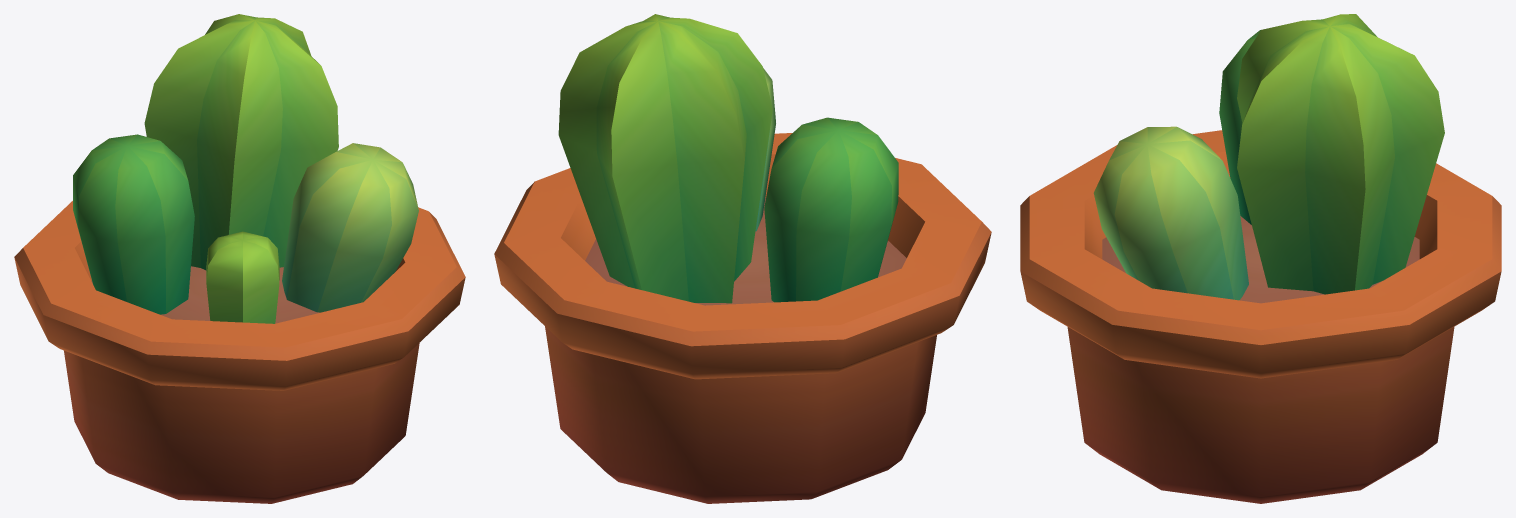
File: kay-cacto.gltf
The picture shows the model from 3 angles, left to right: view 1: azimuth 30°, elevation 25°; view 2: azimuth 150°, elevation 25°; view 3: azimuth 270°, elevation 25°; orthographic projection. The views are drawn at different scales.
Visible parts, largest first — view 1: cactus_medium_A; view 2: cactus_medium_A; view 3: cactus_medium_A.
Boxes of the visible parts, bbox=[...] form: cactus_medium_A: bbox=[14, 14, 465, 503]; cactus_medium_A: bbox=[494, 14, 991, 503]; cactus_medium_A: bbox=[1020, 14, 1501, 503].
Size of the model in its own units: 0.5719 by 0.5377 by 0.5439.
Materials: 1 (1 with a texture image).
